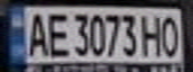0: (87, 10, 106, 57)
3: (118, 11, 142, 57), (69, 10, 90, 57)
7: (103, 10, 124, 57)
A: (21, 9, 51, 57)
E: (42, 8, 69, 57)
H: (139, 11, 166, 57)
O: (157, 12, 184, 57)
